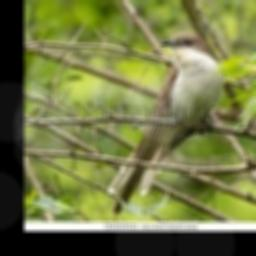Cuckoo: (106, 32, 222, 213)
